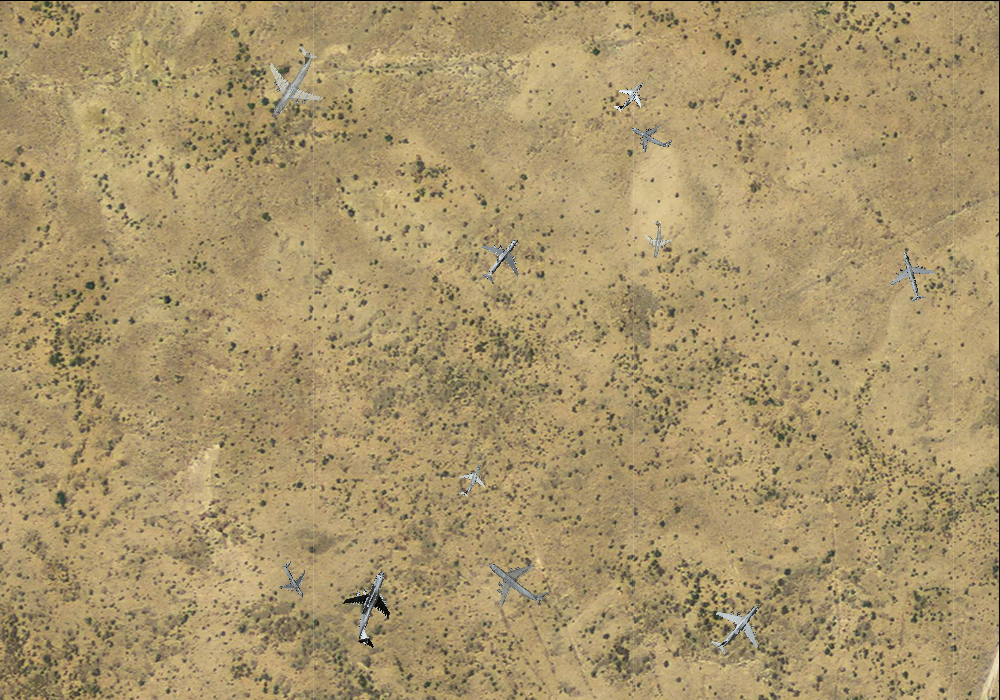plane: (241, 31, 342, 134), (328, 560, 416, 656), (471, 537, 561, 626), (696, 586, 779, 669), (466, 223, 537, 294), (882, 245, 941, 307), (623, 109, 679, 163), (268, 554, 319, 606), (605, 71, 654, 121), (449, 457, 493, 503), (636, 217, 676, 261)
